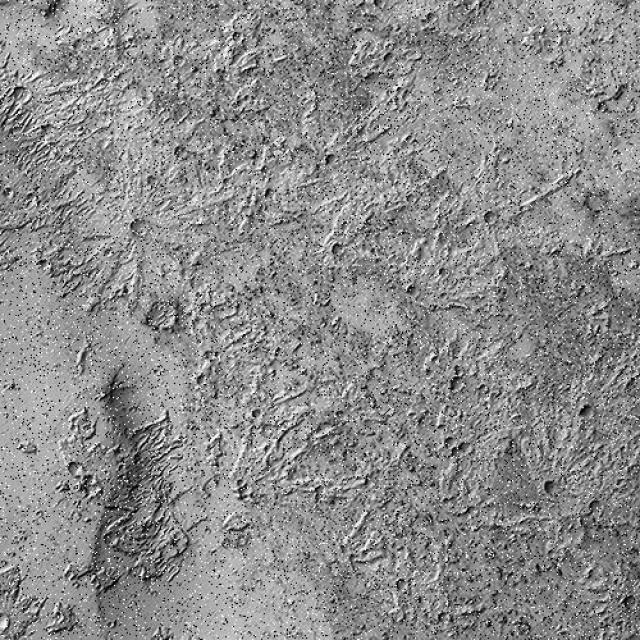crater: (140, 299, 186, 337), (576, 188, 618, 220), (5, 76, 44, 108), (476, 203, 508, 235), (0, 179, 22, 220), (29, 246, 59, 275), (440, 440, 474, 465), (440, 371, 474, 396), (315, 148, 348, 172), (97, 528, 127, 554), (124, 215, 156, 239), (613, 590, 640, 618), (187, 367, 215, 393), (398, 279, 426, 303), (437, 428, 462, 454), (168, 142, 196, 164), (326, 238, 351, 262), (100, 611, 125, 634), (0, 129, 19, 159), (0, 230, 18, 260), (449, 440, 487, 454), (574, 400, 598, 422), (391, 576, 414, 598), (539, 476, 563, 497), (0, 258, 18, 286), (378, 96, 404, 115), (363, 0, 395, 15), (585, 496, 607, 516), (167, 52, 190, 71), (506, 626, 536, 640), (232, 473, 254, 492), (94, 244, 120, 260), (0, 64, 15, 91), (480, 68, 500, 88), (66, 458, 84, 480), (231, 530, 249, 552), (217, 533, 234, 555), (0, 608, 13, 635), (0, 109, 12, 138), (330, 409, 352, 424), (0, 484, 14, 507), (434, 611, 454, 627), (380, 49, 398, 66), (0, 591, 12, 616), (0, 33, 15, 53), (0, 246, 13, 269), (0, 582, 12, 606), (196, 525, 214, 541), (249, 406, 267, 422), (337, 218, 355, 234), (0, 335, 13, 357), (0, 549, 12, 572), (0, 401, 12, 424), (0, 357, 12, 380), (417, 16, 433, 33), (0, 180, 12, 202), (0, 120, 13, 140), (381, 83, 397, 99), (608, 145, 625, 160), (0, 119, 12, 140), (0, 439, 12, 460), (392, 95, 407, 111), (392, 84, 409, 98), (611, 158, 624, 176), (0, 174, 10, 197), (14, 442, 30, 456), (497, 631, 521, 640), (445, 72, 461, 85), (426, 7, 441, 20), (0, 627, 14, 640), (126, 402, 139, 416), (0, 434, 10, 452), (0, 3, 9, 23), (215, 631, 234, 640), (0, 19, 10, 36), (565, 2, 578, 15), (0, 109, 6, 137), (41, 631, 59, 640), (0, 628, 13, 640), (0, 486, 9, 503), (14, 632, 33, 640), (0, 542, 8, 560), (18, 631, 34, 640), (0, 0, 12, 12), (0, 428, 8, 446), (1, 189, 14, 200), (0, 0, 10, 14), (0, 522, 8, 539), (0, 26, 9, 41), (401, 88, 412, 100), (0, 630, 13, 640), (404, 578, 418, 587), (150, 368, 164, 377), (0, 118, 9, 132), (0, 538, 8, 553), (52, 633, 69, 640), (0, 631, 12, 640), (0, 298, 8, 311), (0, 390, 6, 406), (42, 635, 60, 640), (0, 45, 6, 59), (193, 635, 209, 640), (0, 92, 6, 105), (0, 425, 5, 439), (304, 635, 318, 640)
